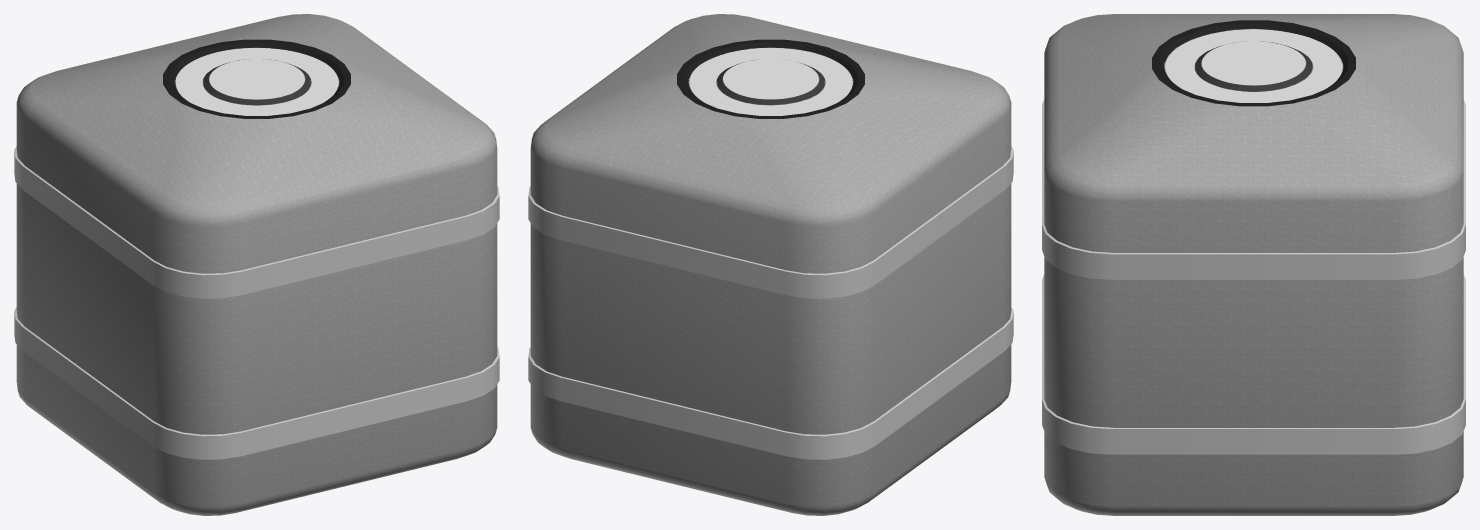
File: hangar-extension-XL.fbx
The picture shows the model from 3 angles, left to right: view 1: azimuth 30°, elevation 25°; view 2: azimuth 150°, elevation 25°; view 3: azimuth 270°, elevation 25°; orthographic projection. The views are drawn at different scales.
Visible parts, largest first — view 1: hangar-extension-XL, stripe_001, stripe; view 2: hangar-extension-XL, stripe_001, stripe; view 3: hangar-extension-XL, stripe_001, stripe.
Part boxes in pixels (left/top/right/bottom): hangar-extension-XL: left=16, top=14, right=497, bottom=515; stripe_001: left=14, top=307, right=499, bottom=459; stripe: left=14, top=146, right=499, bottom=298; hangar-extension-XL: left=530, top=14, right=1011, bottom=515; stripe_001: left=528, top=307, right=1013, bottom=459; stripe: left=528, top=146, right=1013, bottom=298; hangar-extension-XL: left=1044, top=14, right=1463, bottom=515; stripe_001: left=1042, top=274, right=1465, bottom=454; stripe: left=1042, top=99, right=1465, bottom=279.
Size of what is drawn, in the model's own units: 5.05 by 5.3 by 5.05.
Materials: 3 (1 with a texture image).
